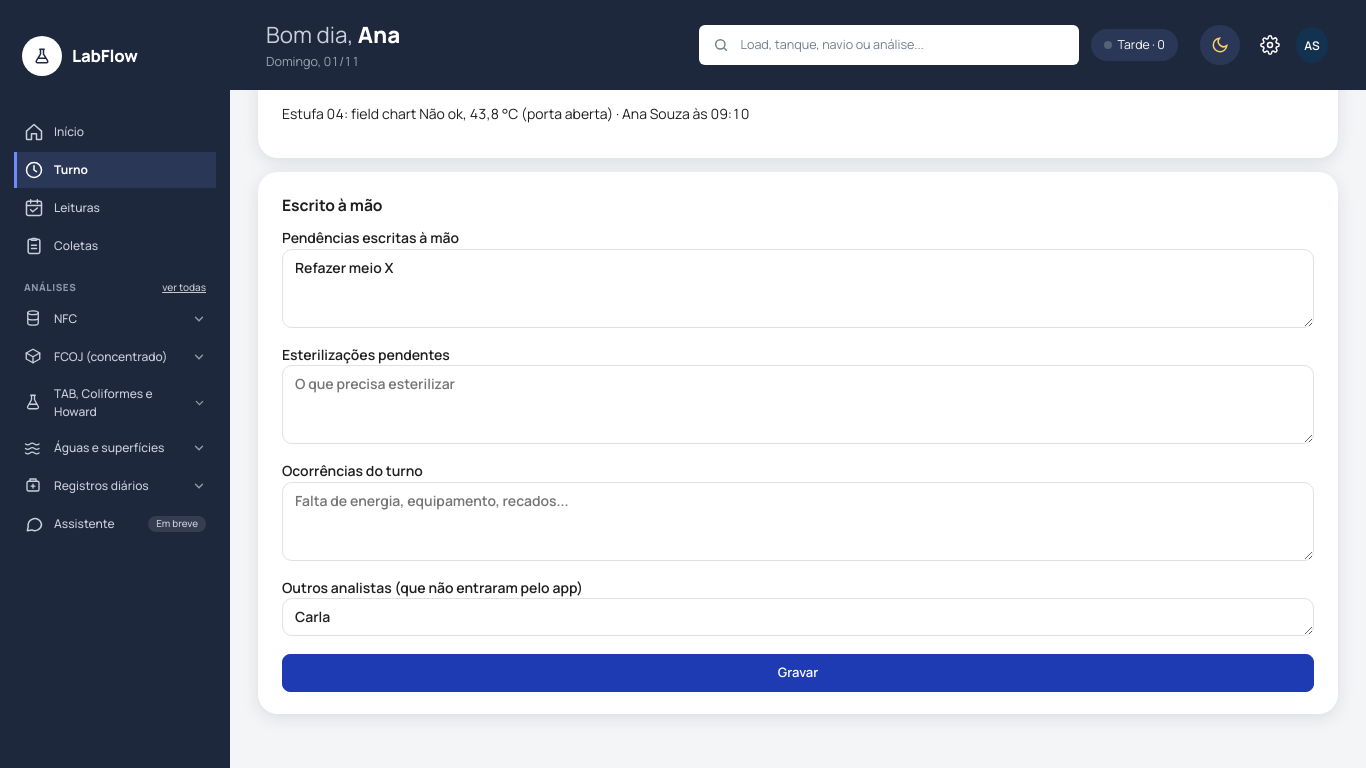
Test case: Relatório do turno (APP-024) › grava os campos escritos à mão e mostra o aviso
The image size is (1366, 768).
(page scrolled)
Check: the text box labelled "Pendências escritas à mão" holds "Refazer meio X", box [282,249,1314,328]
Type "Falta de energia às 10h" into the text box labelled "Ocorrências do turno" at (798, 521), box [282,482,1314,560]
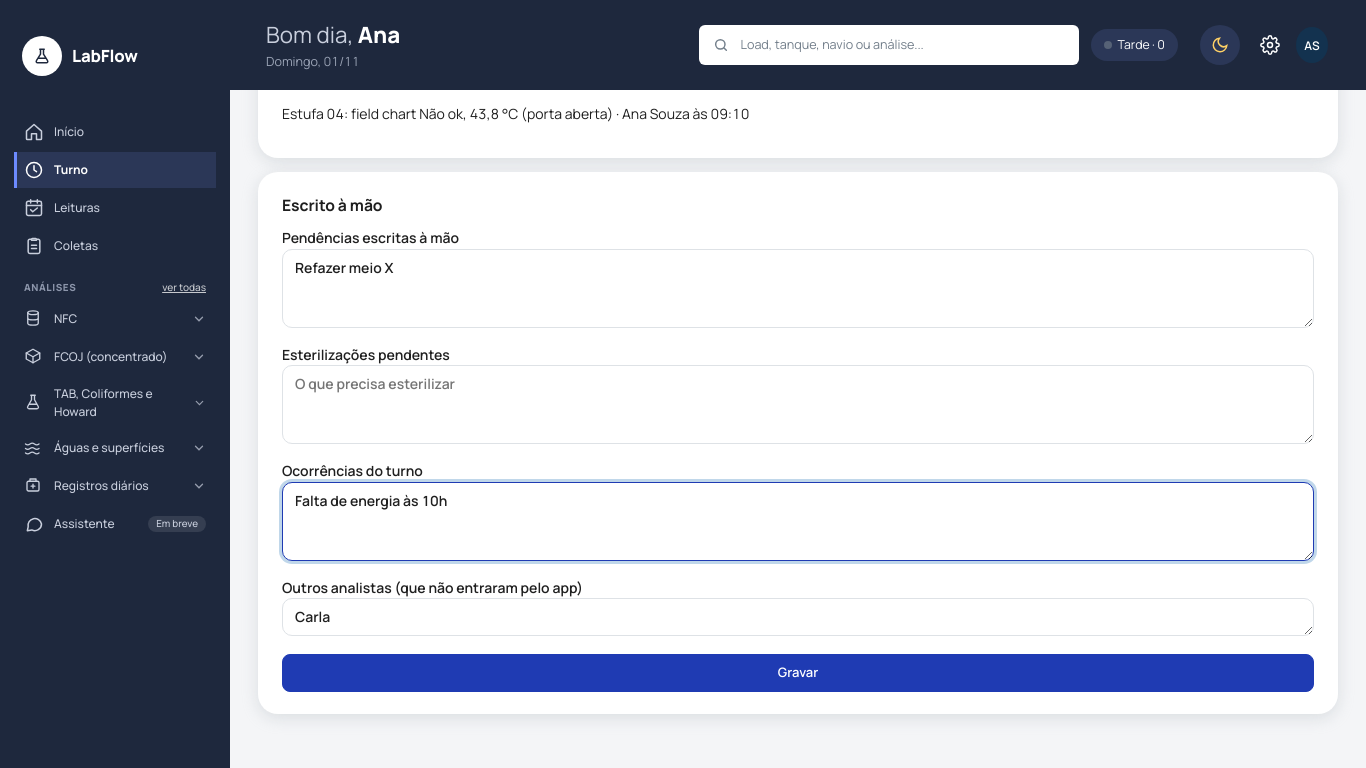
Click the button "Gravar" at (798, 673), box [282,654,1314,692]
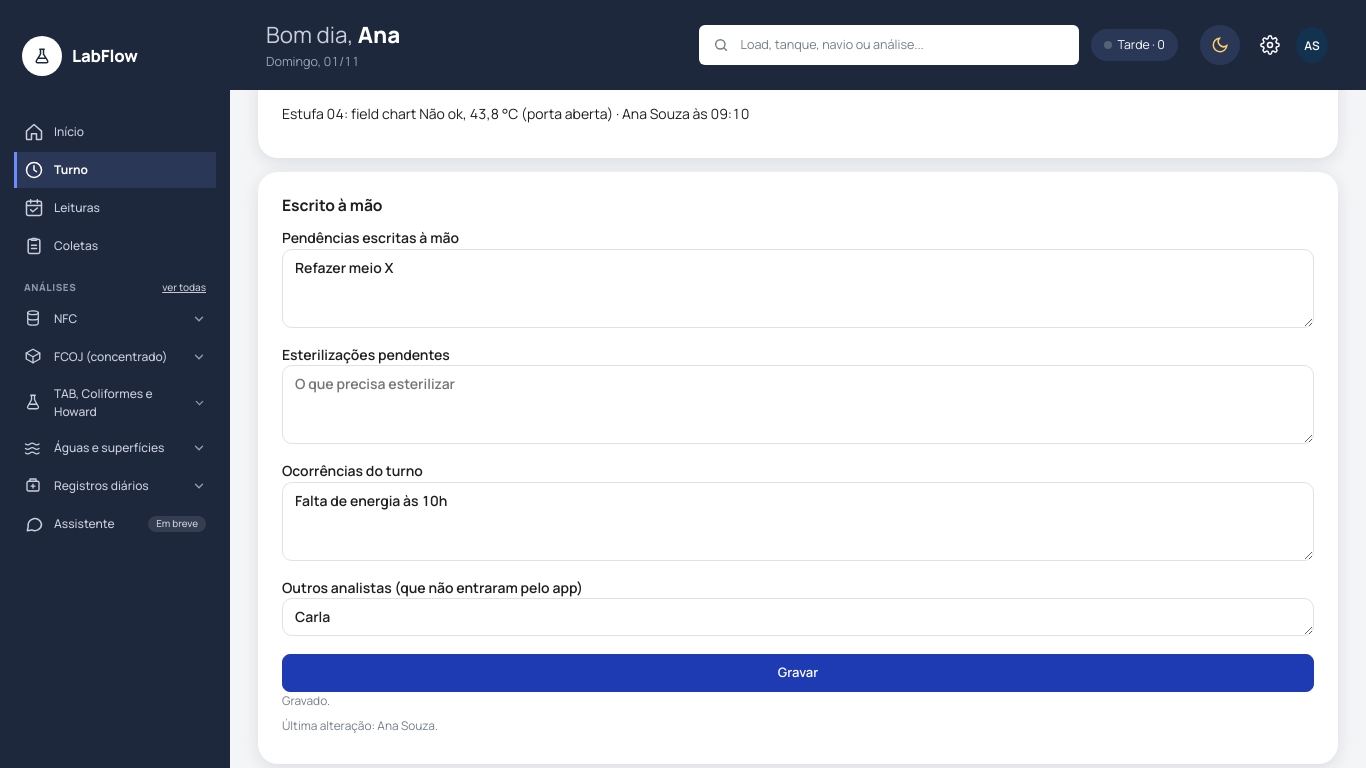
Check: the text "Gravado." is shown, box [282,692,330,709]
Check: the text "Última alteração: Ana Souza." is shown, box [282,717,438,734]
